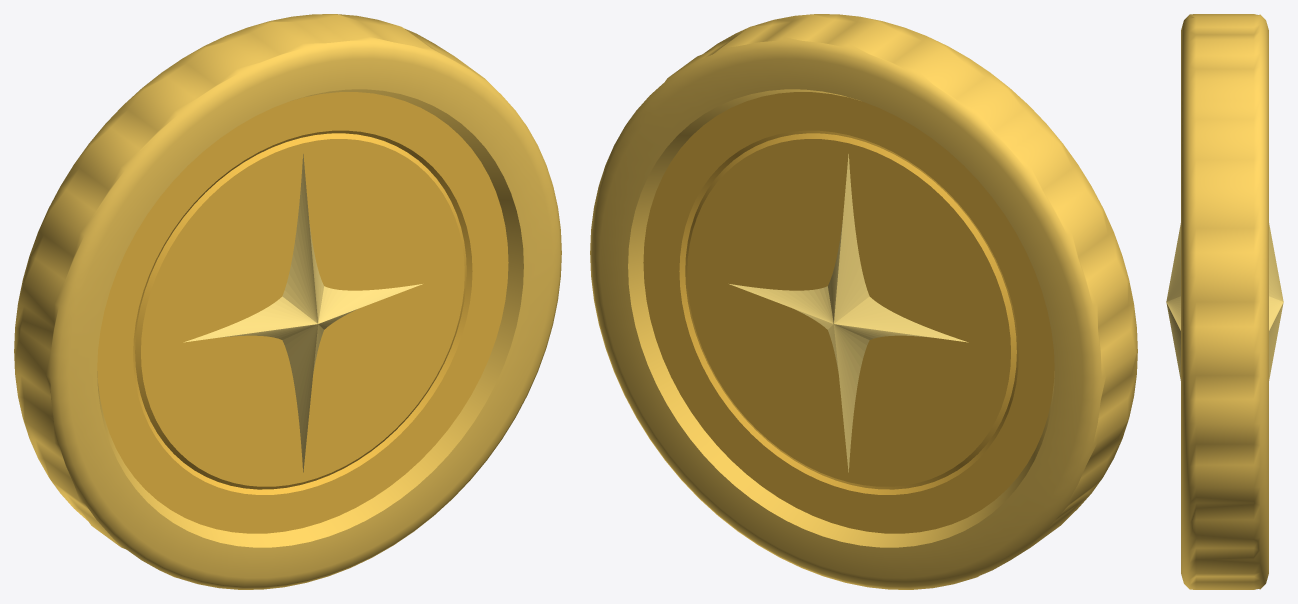
Rendered from Coin.glb.
3 views of the same model, side by side, from view 1: azimuth 30°, elevation 25°; view 2: azimuth 150°, elevation 25°; view 3: azimuth 270°, elevation 25° (orthographic). The views are drawn at different scales.
Parts seen in each view (by area): view 1: CoinField, CoinRim, CoinStar; view 2: CoinField, CoinRim, CoinStar; view 3: CoinRim, CoinStar.
Part boxes in pixels (x1,y1,x2,y2): CoinField: (97,92,508,533); CoinRim: (14,14,561,589); CoinStar: (183,154,422,472); CoinField: (643,92,1054,533); CoinRim: (590,14,1137,589); CoinStar: (729,154,968,472); CoinRim: (1181,14,1268,589); CoinStar: (1166,223,1283,380).
Bounding box in the file's own units: 2 × 2 × 0.406.
